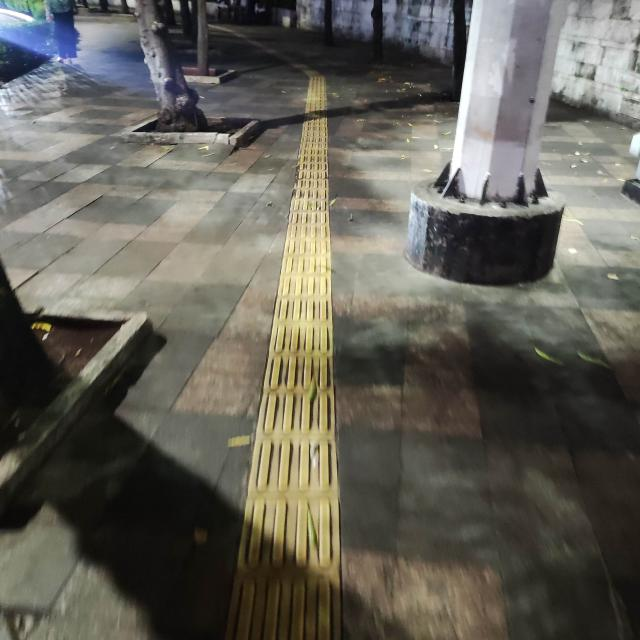lurus: (243, 79, 352, 640)
